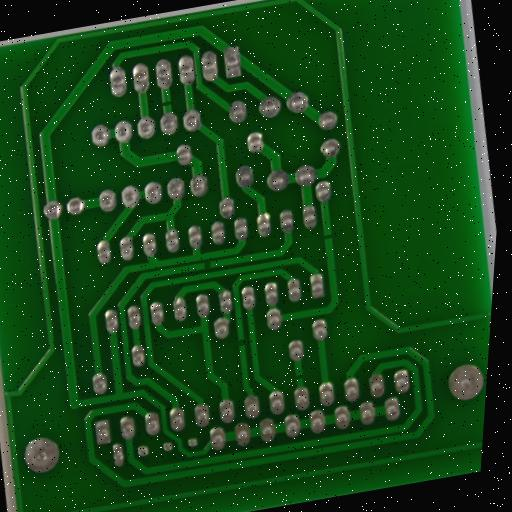open_circuit: (318, 228, 339, 244), (232, 335, 248, 350), (198, 258, 214, 272), (158, 96, 173, 109), (291, 370, 305, 383)
